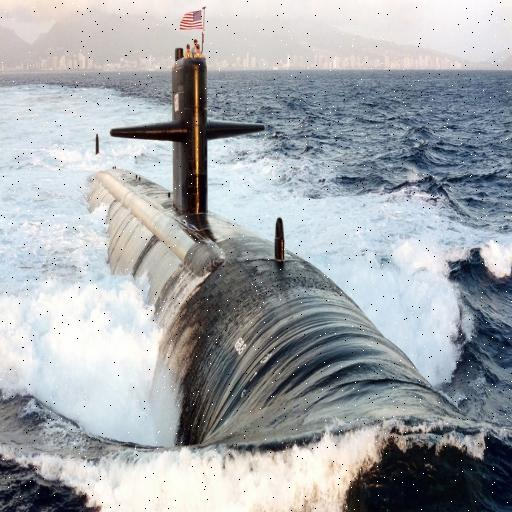submarine: (80, 6, 486, 469)
